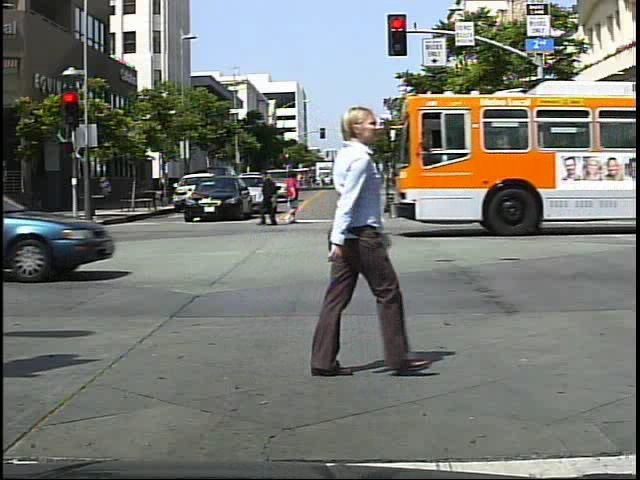person: (274, 87, 403, 386), (342, 164, 373, 228), (281, 167, 305, 227), (259, 167, 281, 230), (551, 160, 573, 211)
